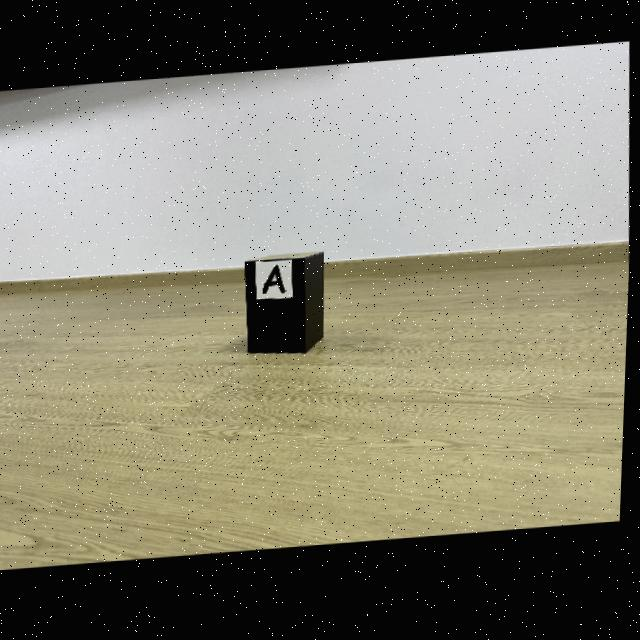A: (265, 267, 288, 296)
